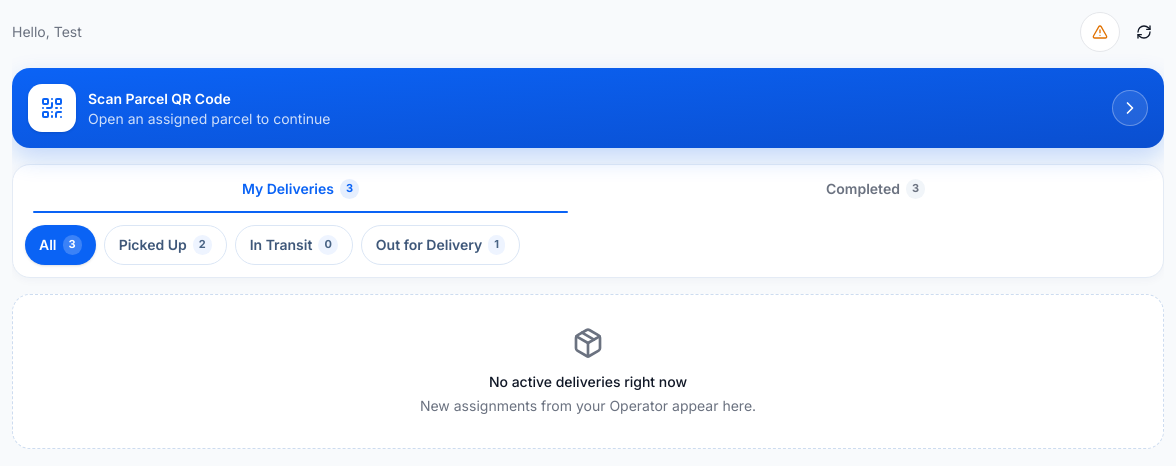
Test case: shows distinct empty states for no assignments, an empty filter and no completed work
This screenshot has width=1176, height=466.
Expected: the text "No active deliveries right now" is shown, [489, 373, 687, 390]
What coordinates should you click on to do the following:
click the button with aria-label "In Transit, 0 deliveries"
I would click on:
 (294, 245)
Its box is [235, 225, 353, 265].
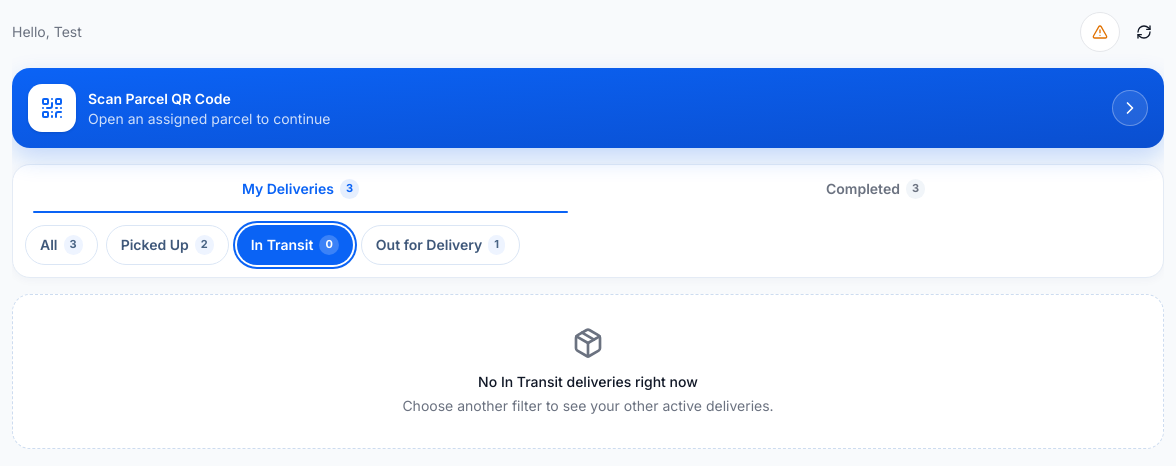
Now the text "No In Transit deliveries right now" is shown, box [478, 373, 698, 390]
Now the text "Choose another filter to see your other active deliveries." is shown, box [402, 397, 774, 414]
What coordinates should you click on to do the following:
click the tab "Completed 3"
I would click on:
 (876, 189)
Its box is [588, 165, 1163, 213].
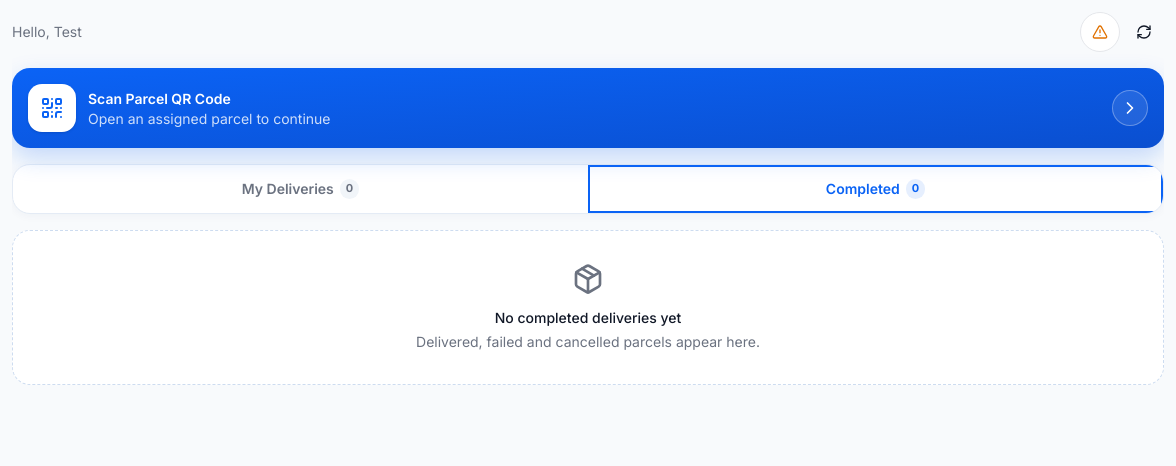
Now the text "No completed deliveries yet" is shown, box [495, 309, 681, 326]
Now the text "Delivered, failed and cancelled parcels appear here." is shown, box [416, 333, 760, 350]
